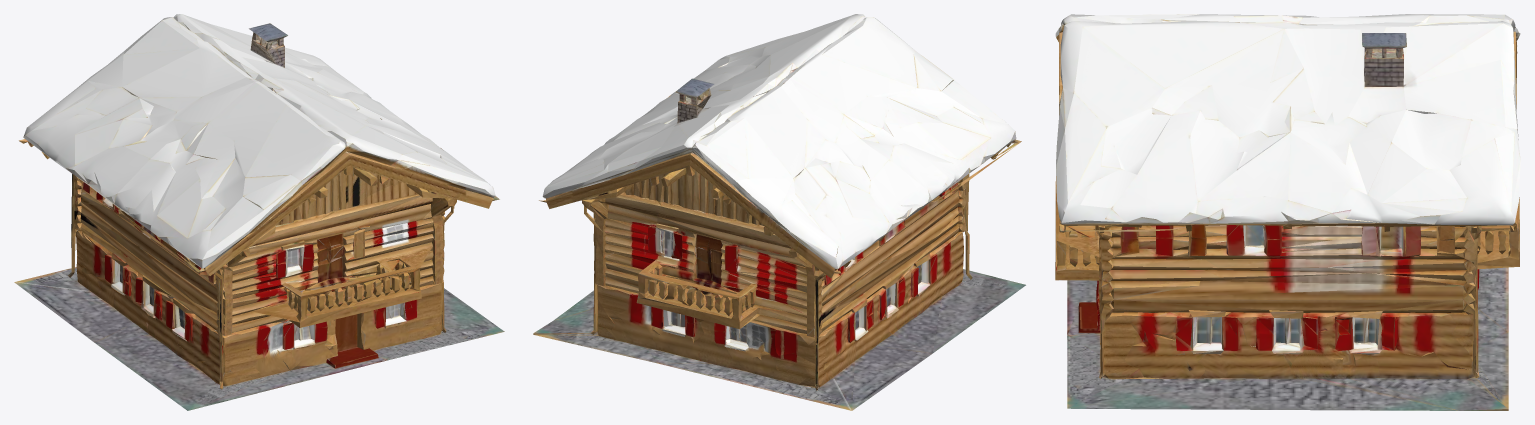
File: chalet_classic.glb
3 views of the same model, side by side, from view 1: azimuth 30°, elevation 25°; view 2: azimuth 150°, elevation 25°; view 3: azimuth 270°, elevation 25° (orthographic). The views are drawn at different scales.
Bounding box in the file's own units: 1.9 × 1.38 × 1.9.
1 material, 1 textured.
